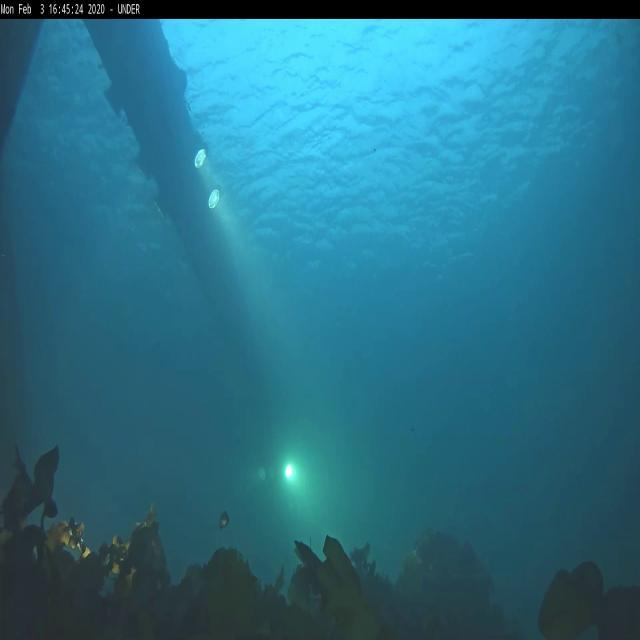fish: (218, 509, 230, 526)
